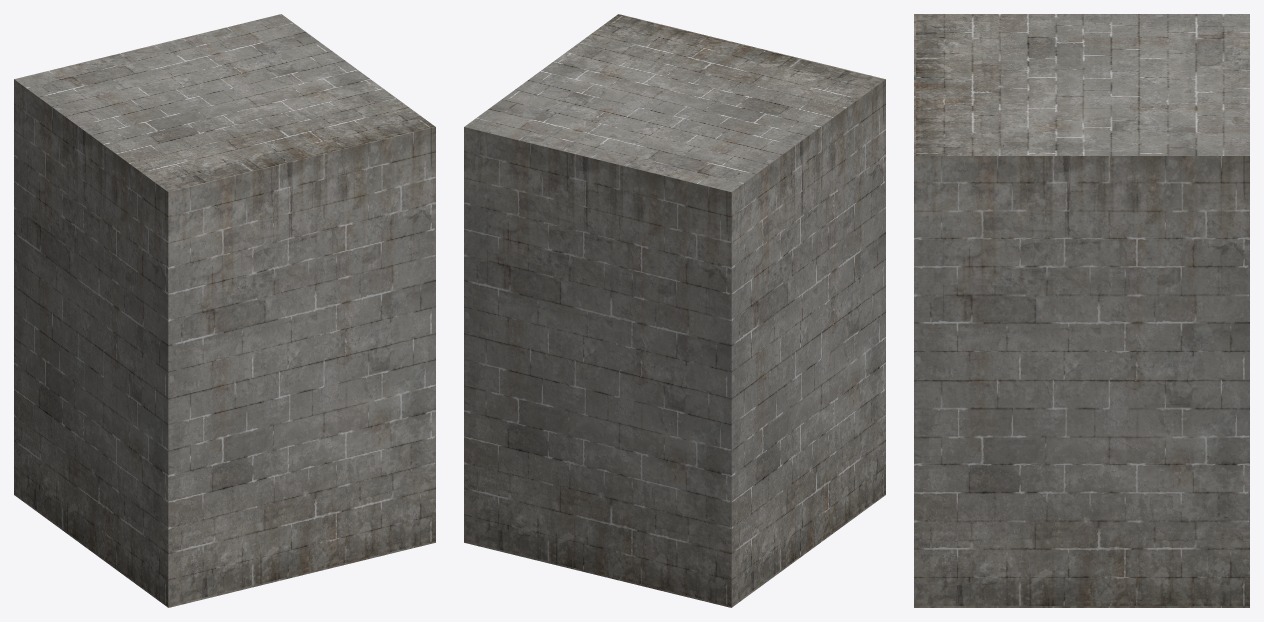
File: bg_lut_lucastle_churchtower05a_sm_ksh.FBX
3 renders of one model, left to right at view 1: azimuth 30°, elevation 25°; view 2: azimuth 150°, elevation 25°; view 3: azimuth 270°, elevation 25°, orthographic. The views are drawn at different scales.
Parts seen in each view (by area): view 1: bg_lut_lucastle_churchtower05a_sm_ksh; view 2: bg_lut_lucastle_churchtower05a_sm_ksh; view 3: bg_lut_lucastle_churchtower05a_sm_ksh.
Part boxes in pixels (<box>): bg_lut_lucastle_churchtower05a_sm_ksh: <box>14,14,435,607</box>; bg_lut_lucastle_churchtower05a_sm_ksh: <box>464,14,885,607</box>; bg_lut_lucastle_churchtower05a_sm_ksh: <box>914,14,1249,607</box>.
Bounding box in the file's own units: 345 × 512 × 345.
